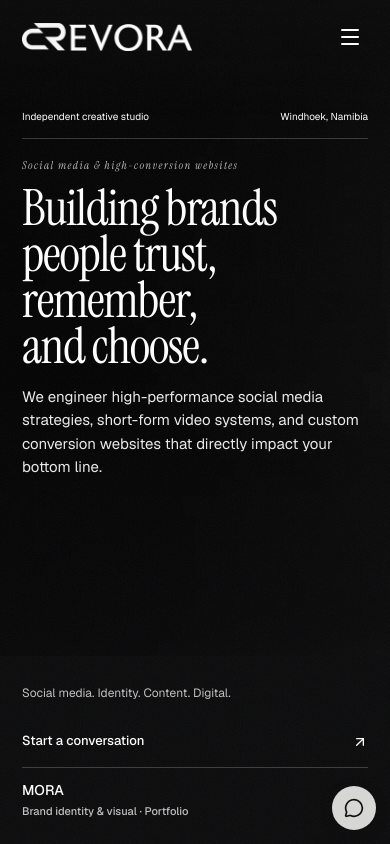
public navigation and contact form › renders customized desktop/mobile navigation and footer content
The image size is (390, 844).
Click the button named "Open menu" at (350, 37), box [332,19,368,55]
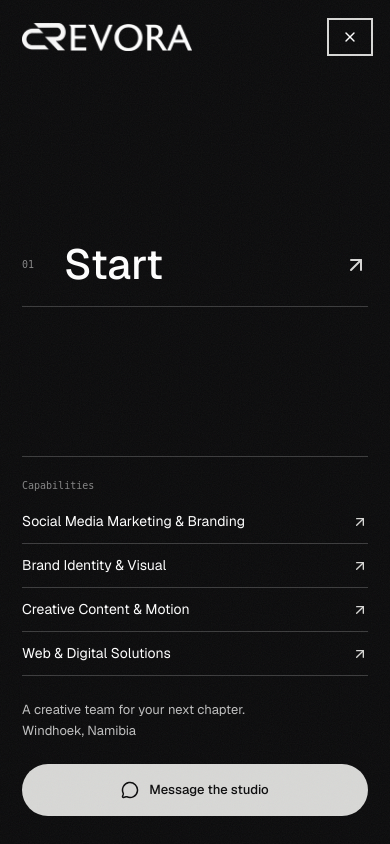
Now the text "A creative team for your next chapter.Windhoek, Namibia" is shown, box [22,701,245,739]
Now the link "Message the studio" is shown, box [22,764,368,816]
